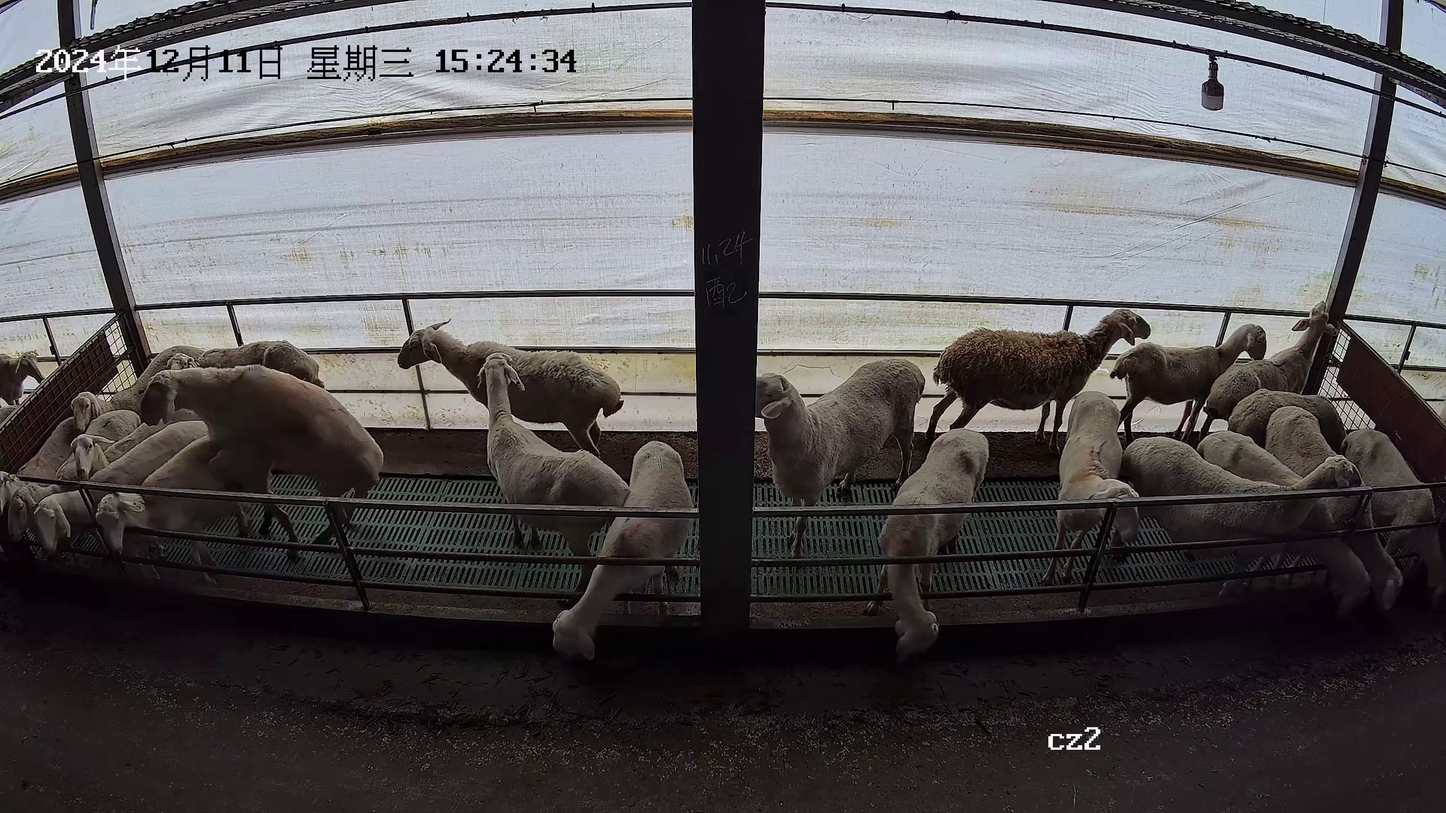Smounting: (91, 363, 388, 591)
mounted: (96, 427, 302, 587)
